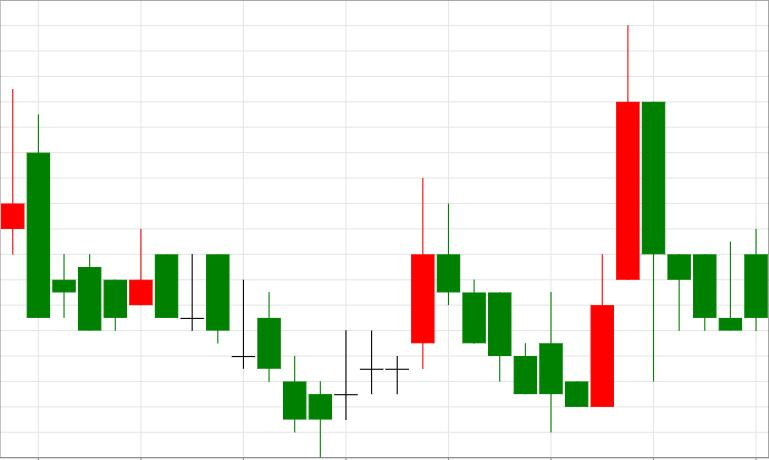bullish_engulfing_rise: (437, 204, 613, 433)
